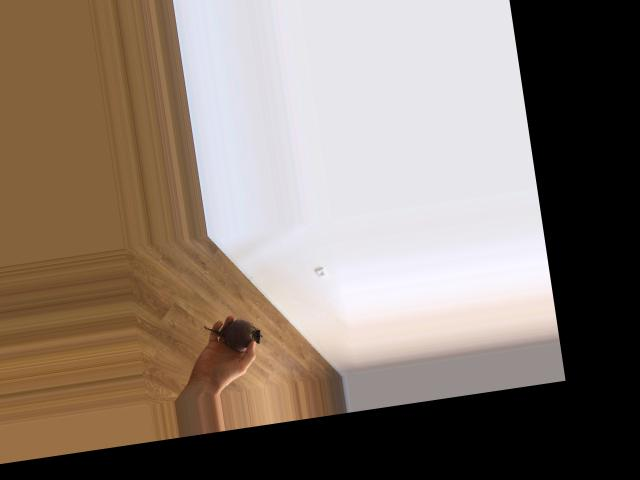beet: (204, 315, 262, 356)
